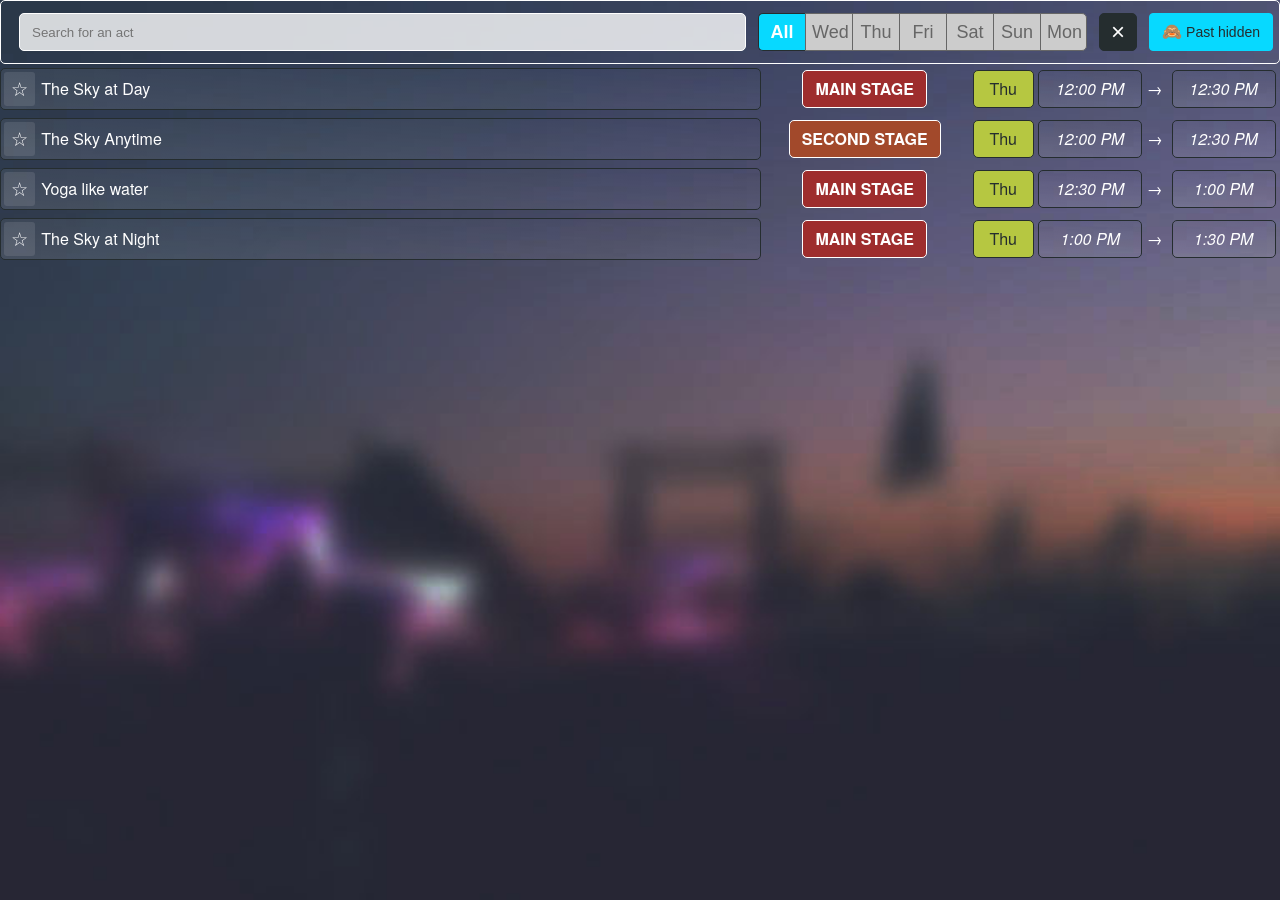
Test: Acts component › should show no results if search input does not match any act
The width and height of the screenshot is (1280, 900).
Type "Yoga like fire" into the field labelled "Search for an act".
click(383, 32); type("Yoga like fire")  # box [19, 13, 746, 51]
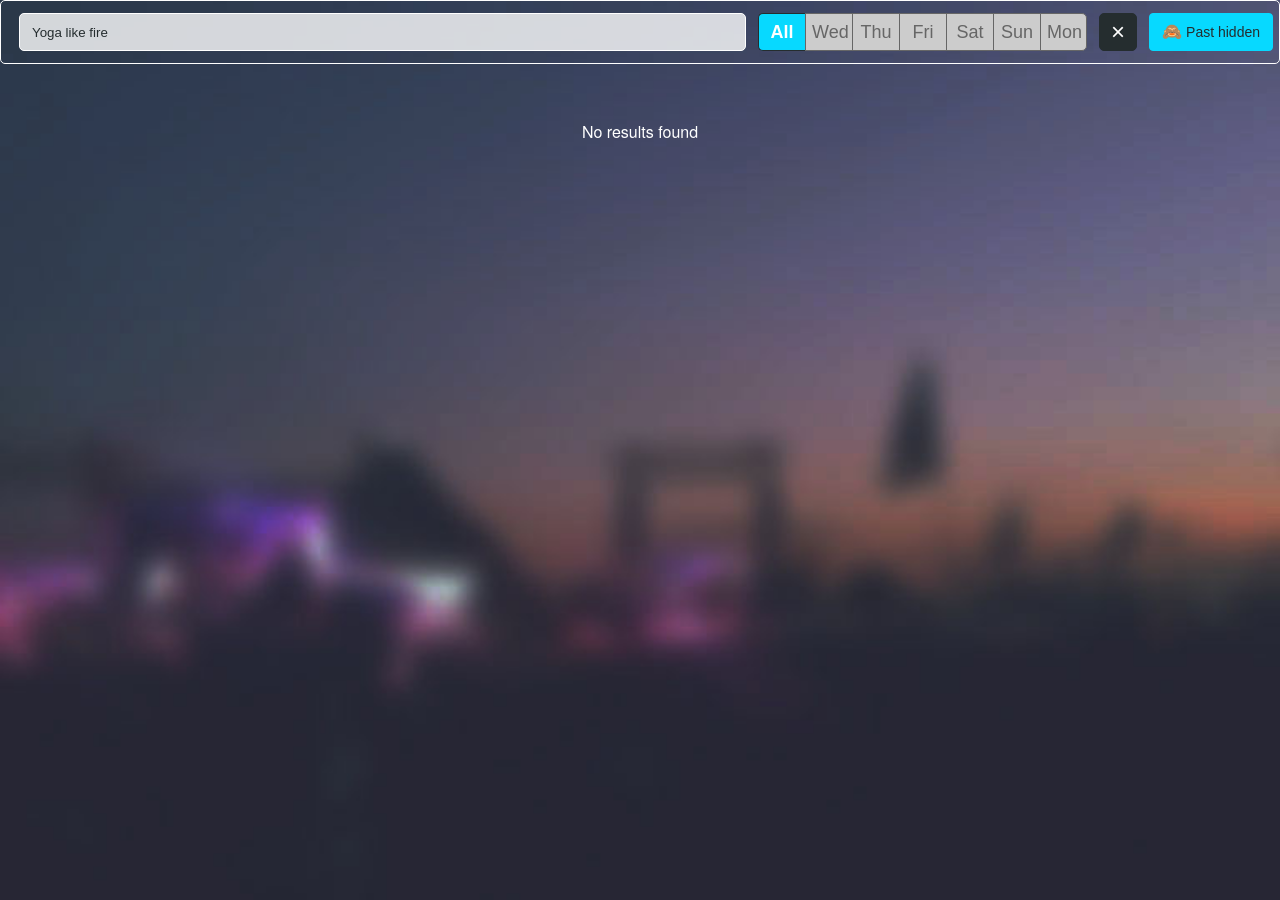
Result: the text "No results found" is shown at [582, 120, 698, 143]
